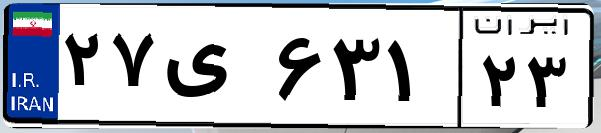1: (385, 28, 445, 110)
2: (57, 26, 110, 100), (475, 38, 525, 113)
3: (330, 28, 385, 110), (525, 38, 570, 115)
6: (270, 28, 330, 110)
7: (110, 28, 158, 98)
ی: (158, 20, 270, 120)
